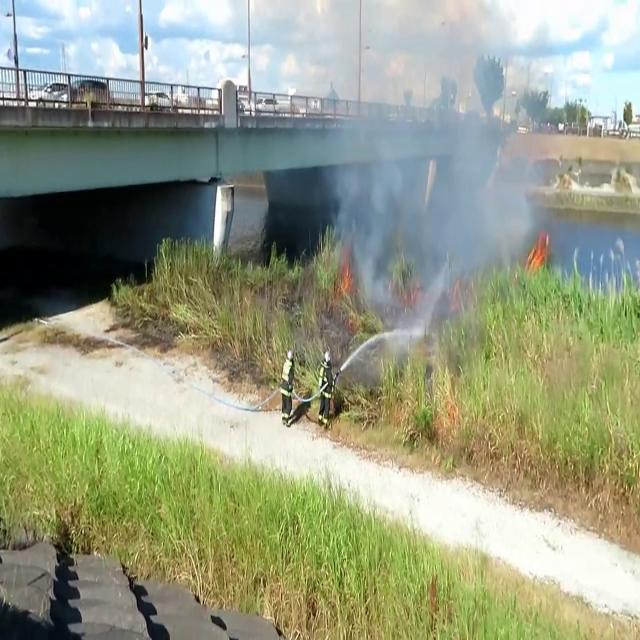Smoke: (315, 2, 545, 356)
